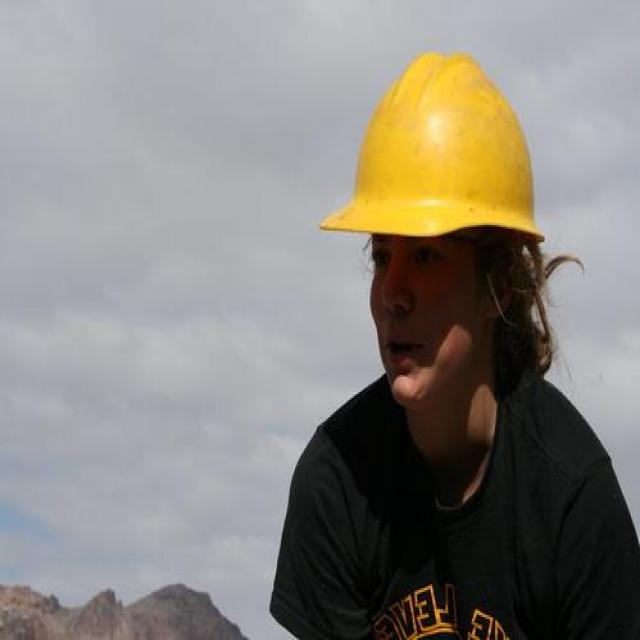Safety-Helmet: (320, 44, 552, 256)
